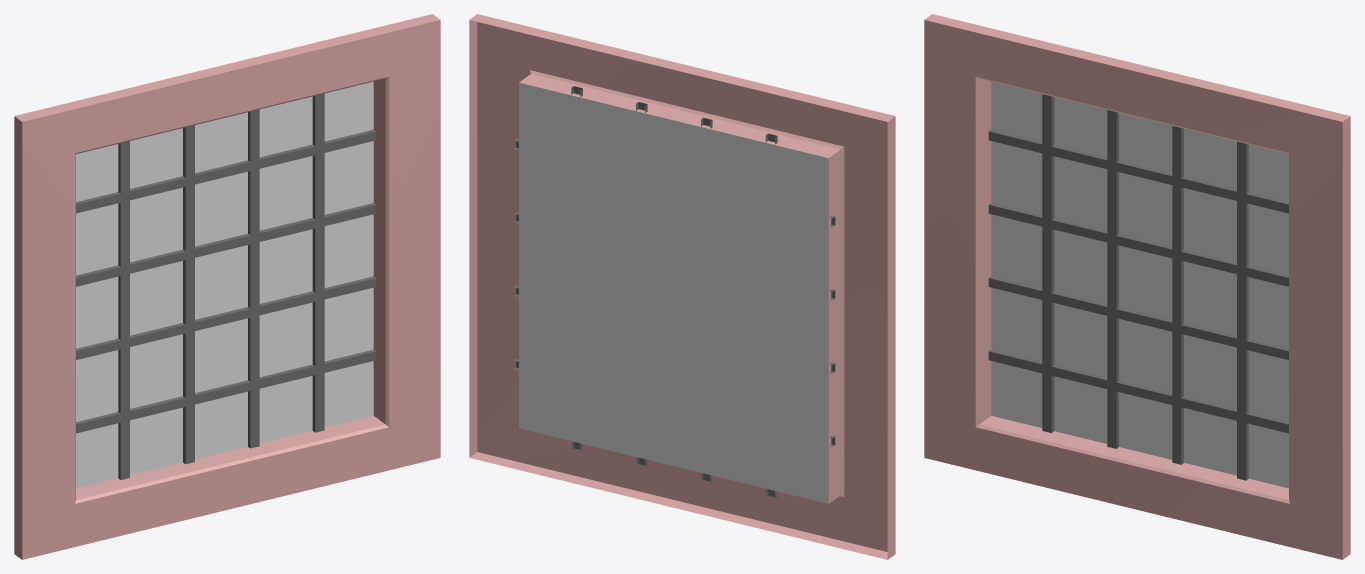
File: SM_KitWall_Window.fbx
3 views of the same model, side by side, from view 1: azimuth 30°, elevation 25°; view 2: azimuth 150°, elevation 25°; view 3: azimuth 330°, elevation 25° (orthographic).
Visible parts, largest first — view 1: SM_Kit_Window; view 2: SM_Kit_Window; view 3: SM_Kit_Window.
Part boxes in pixels (x1=…): SM_Kit_Window: x1=14, y1=14, x2=440, y2=559; SM_Kit_Window: x1=469, y1=14, x2=895, y2=559; SM_Kit_Window: x1=924, y1=14, x2=1350, y2=559.
Size of the model in its own units: 300 by 300 by 16.37.
